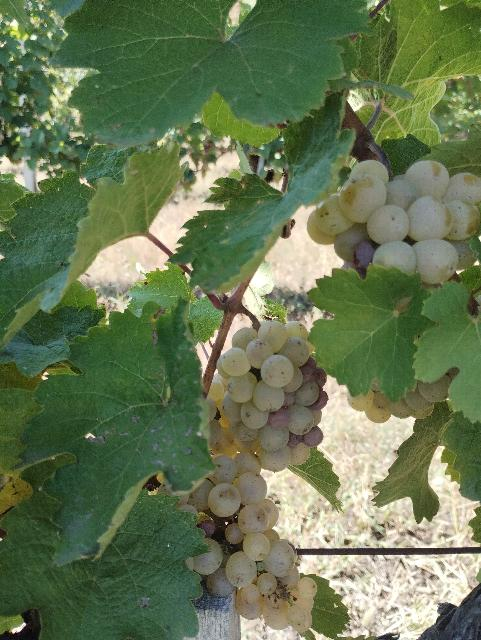grapes: (178, 434, 318, 631), (309, 160, 481, 285), (218, 321, 328, 471)
